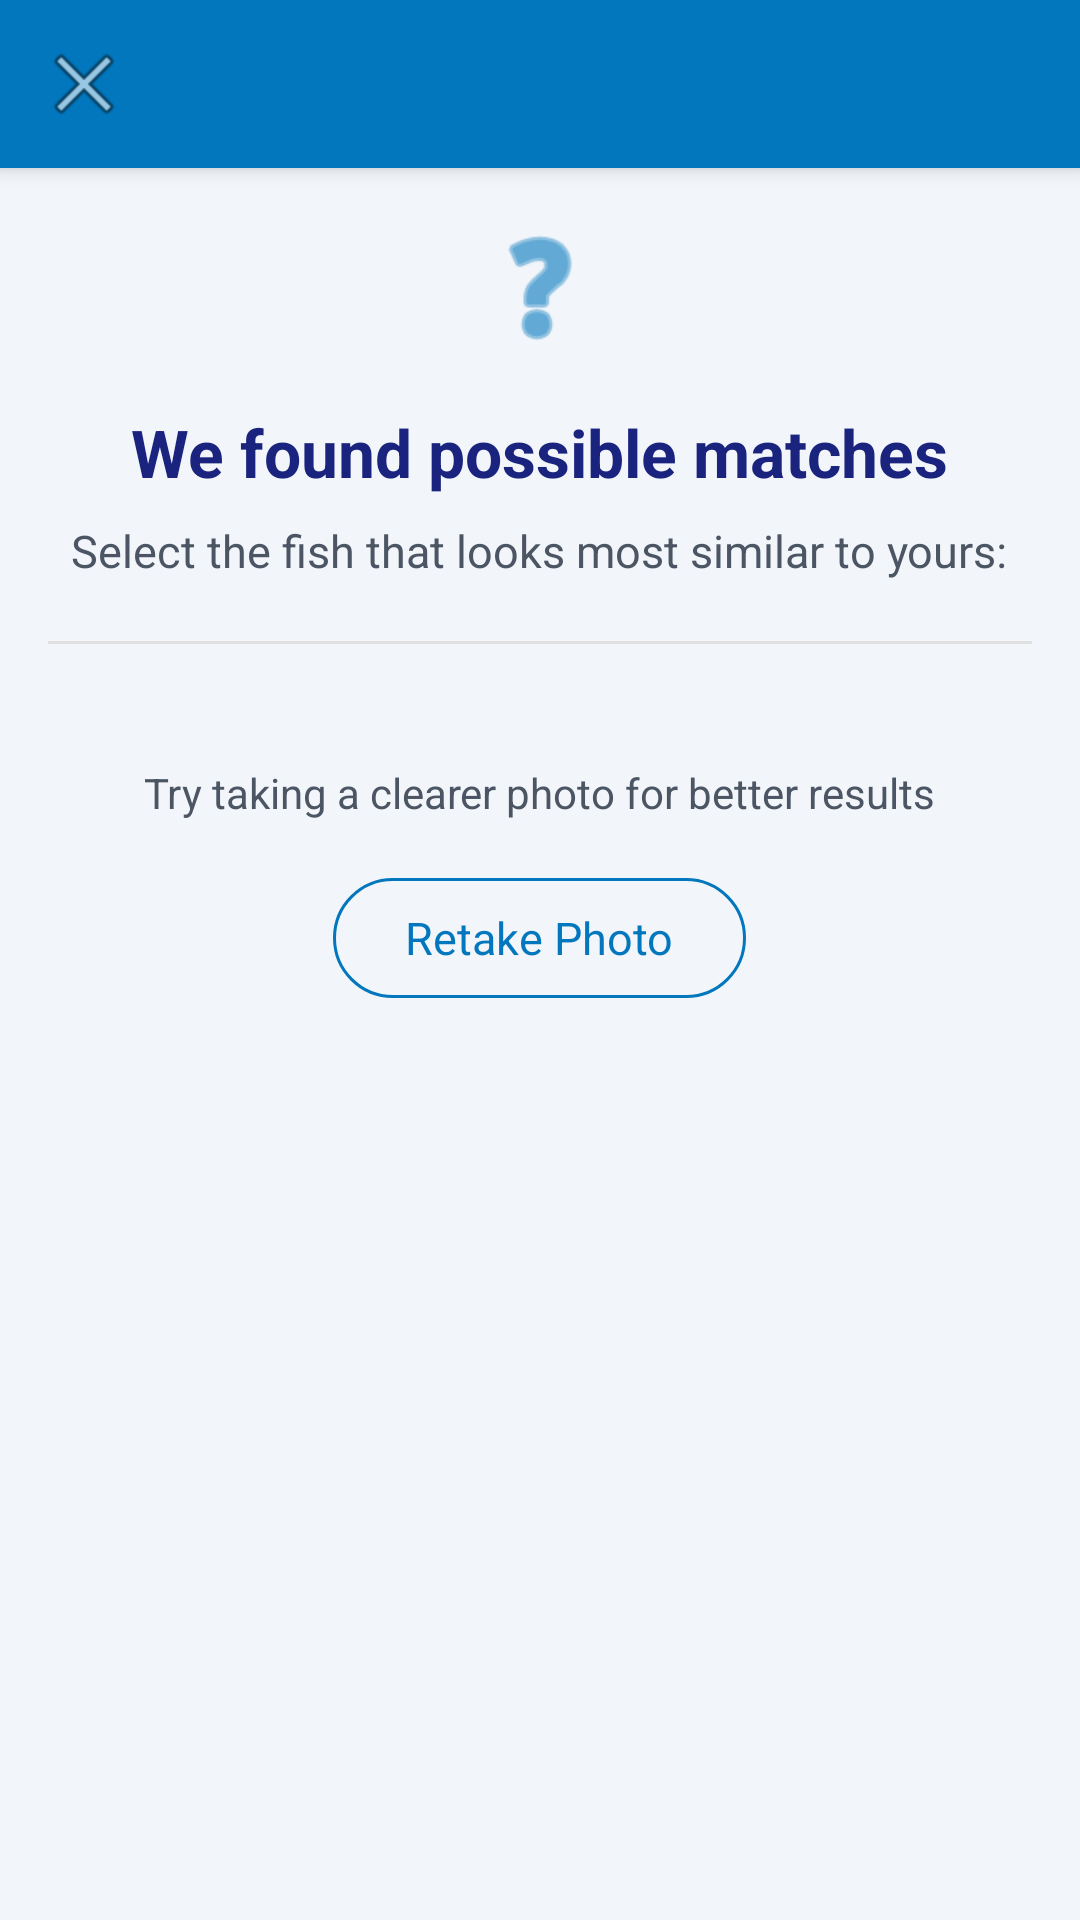

Named icons in this screenshot (1080px x 1920px) and their centers, point (x, y):
Help icon: point (540, 288)
